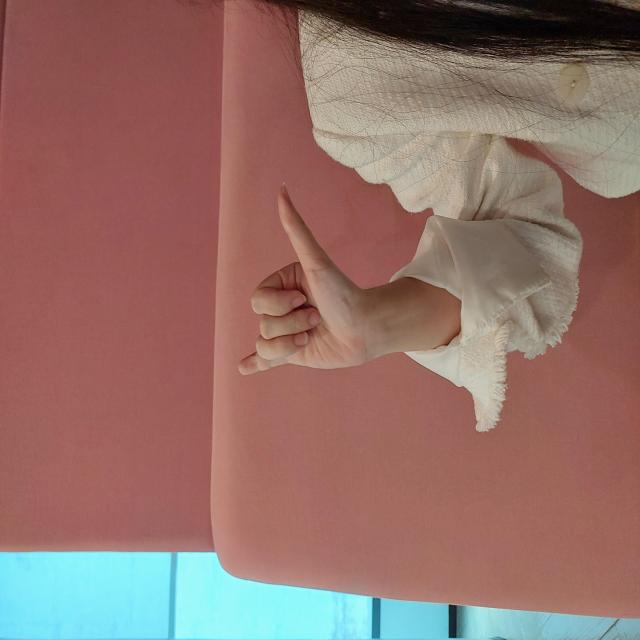Y: (263, 239, 458, 357)
